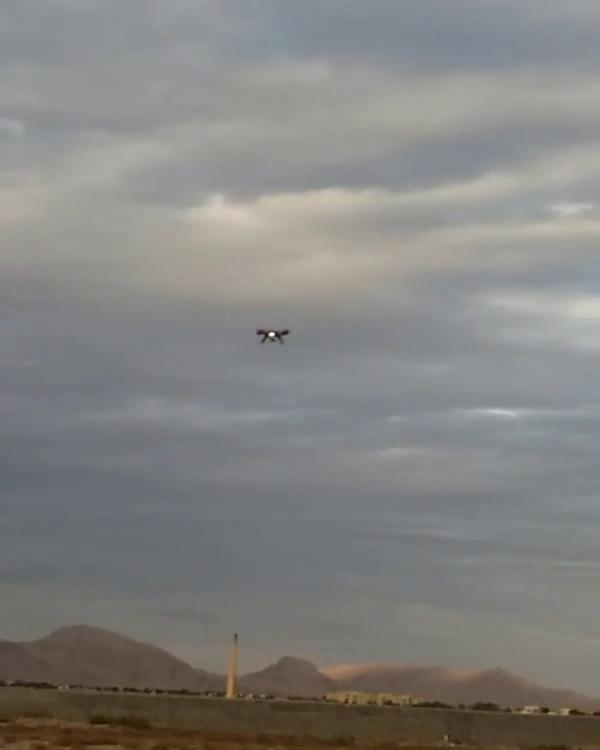drone: (249, 323, 296, 349)
